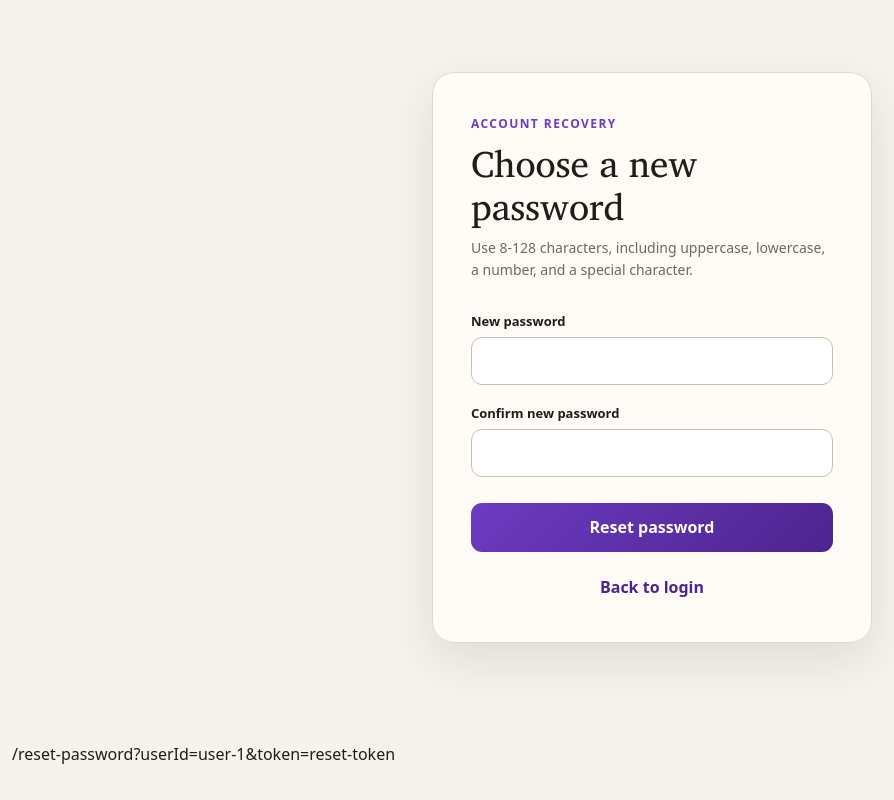
Test: LoginPage › validates and confirms a password-reset link
Step 1. Type "NewPassword1!" into the password field labelled "New password" → (652, 361), box [471,337,833,385]
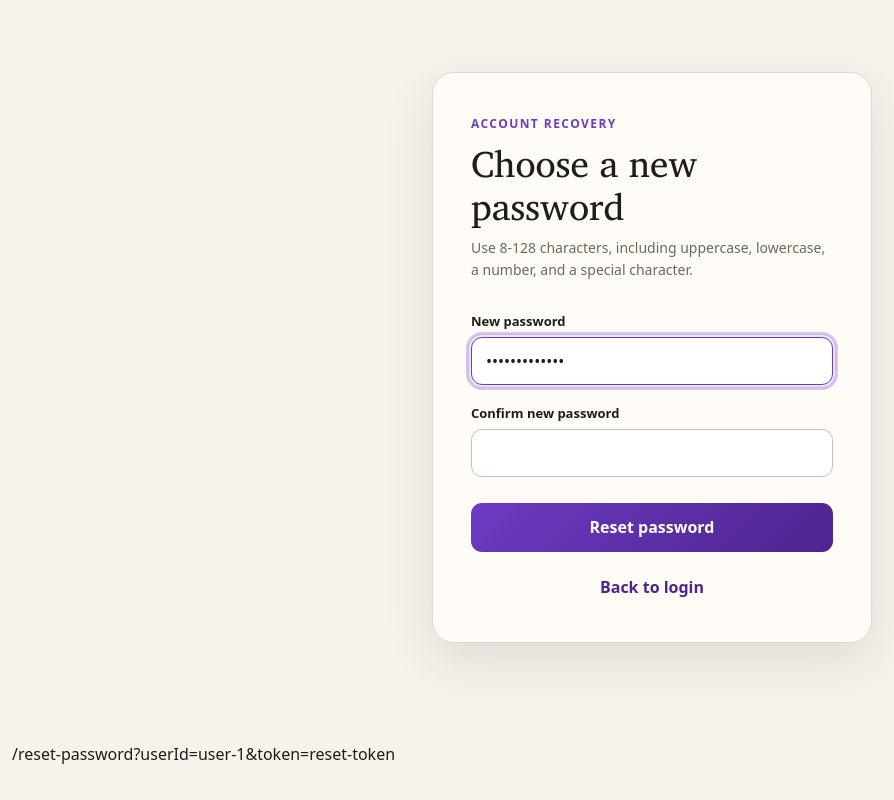
Step 2. Type "different" into the password field labelled "Confirm new password" → (652, 453), box [471,429,833,477]
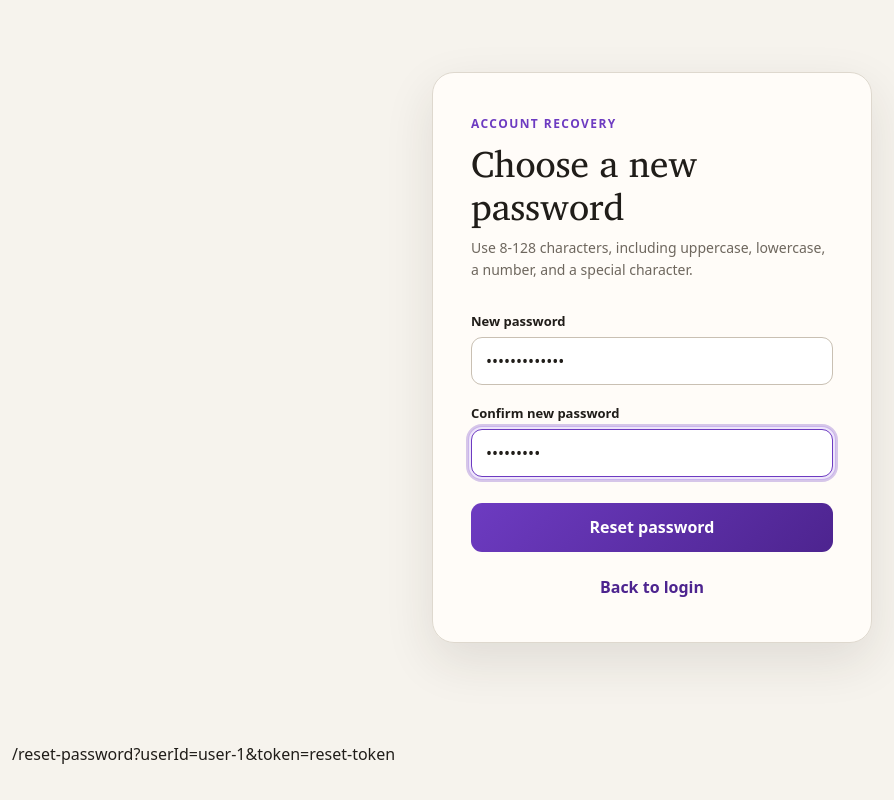
Step 3. Click the button "Reset password" → (652, 527), box [471,503,833,552]
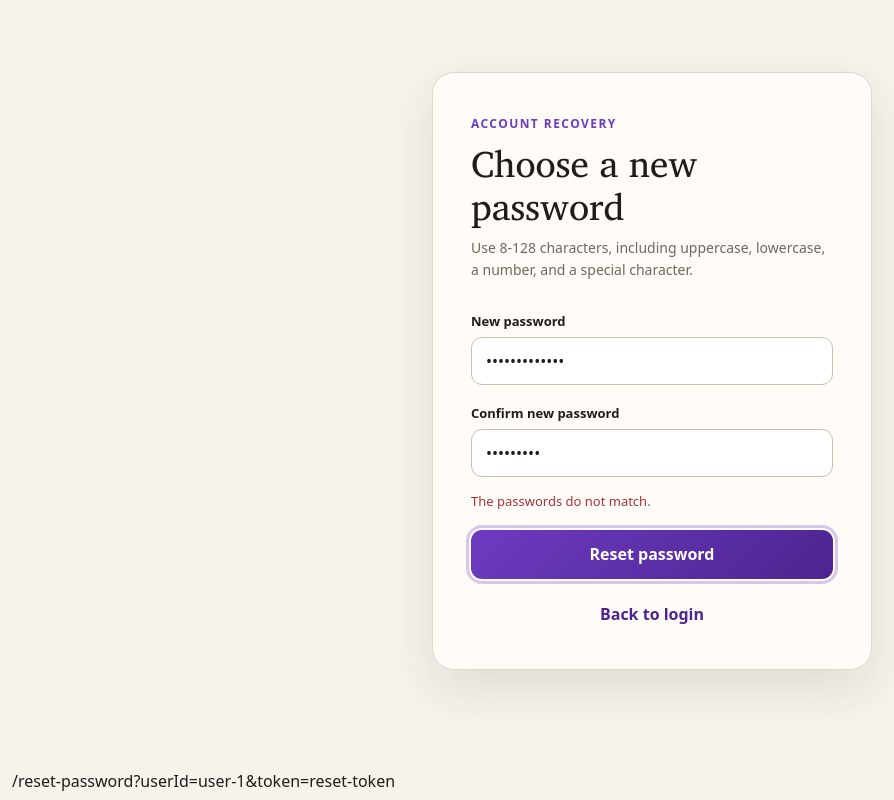
Check: the message shows "match", box [471,492,651,510]
Step 4. Type "NewPassword1!" into the password field labelled "Confirm new password" → (652, 453), box [471,429,833,477]
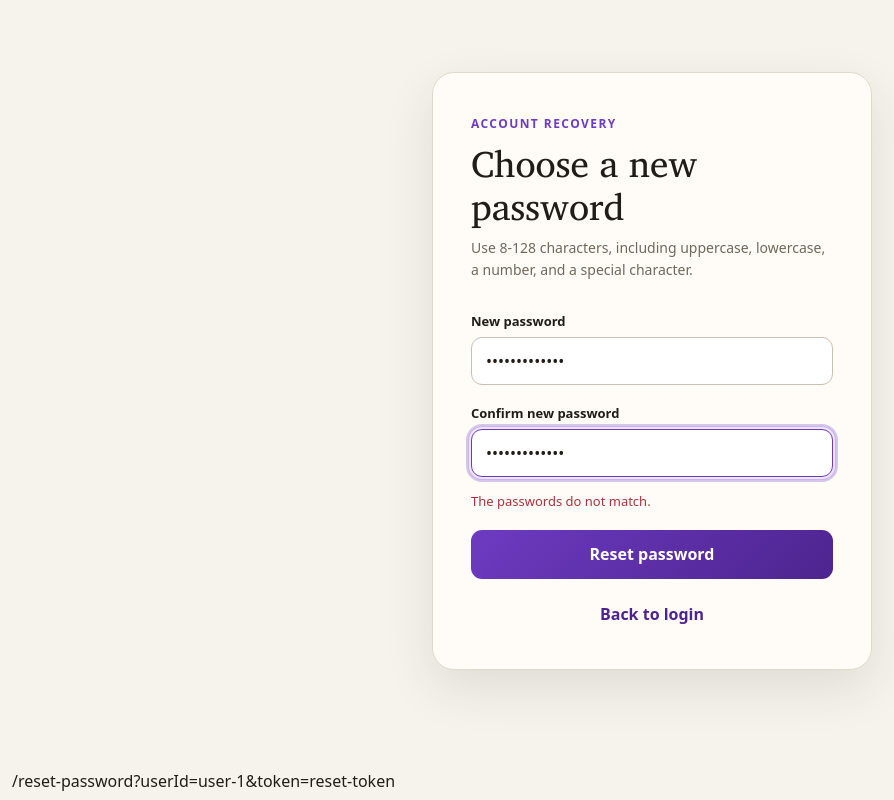
Step 5. Click the button "Reset password" → (652, 554), box [471,530,833,579]
(page scrolled)
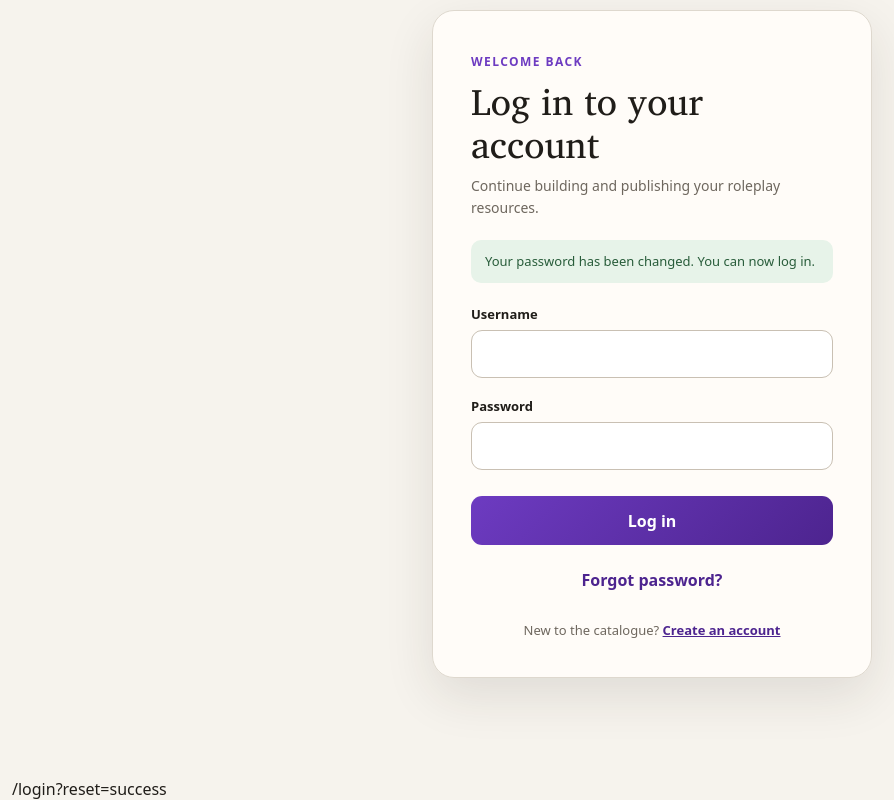
Check: the text with test id "location" reads "/login?reset=success", box [12,778,167,799]
